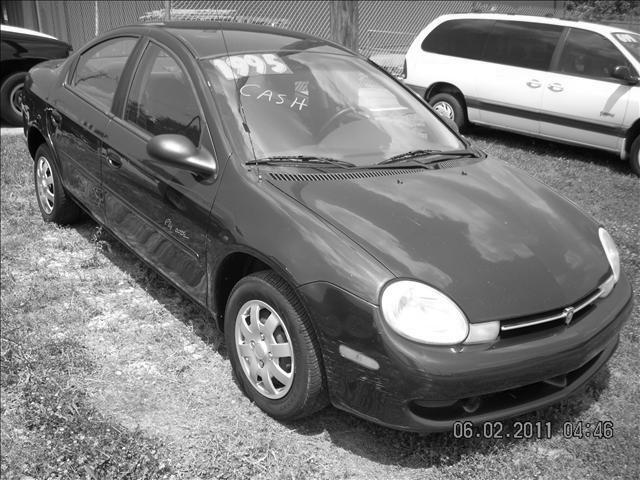car: (17, 17, 632, 443)
